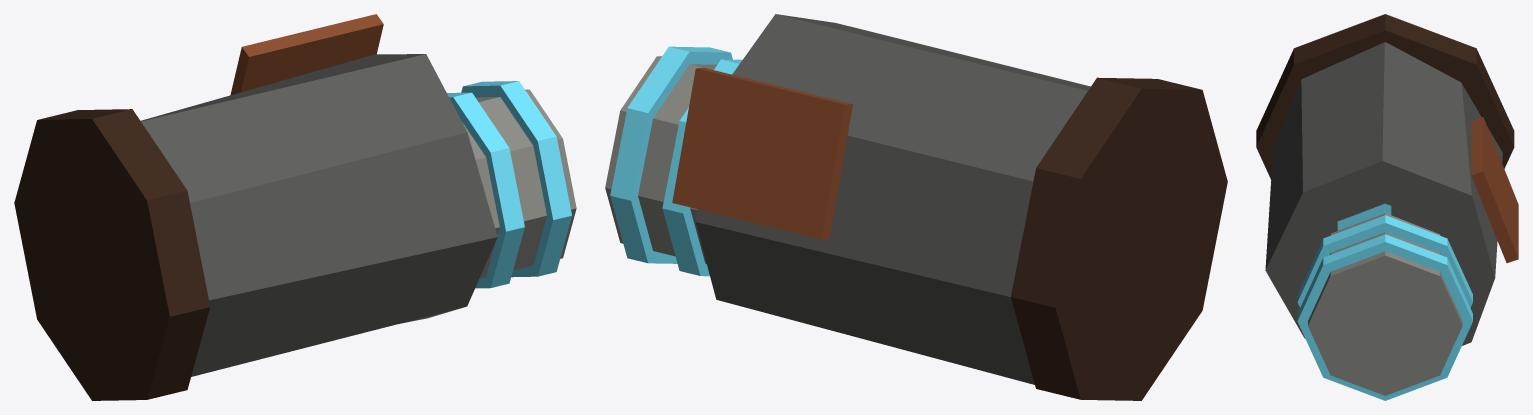
The model's file is power_cell.glb.
3 renders of one model, left to right at view 1: azimuth 30°, elevation 25°; view 2: azimuth 150°, elevation 25°; view 3: azimuth 270°, elevation 25°, orthographic. The views are drawn at different scales.
Visible parts, largest first — view 1: power_cell; view 2: power_cell; view 3: power_cell.
Part boxes in pixels (x1,y1,x2,y2): power_cell: (14, 14, 576, 400); power_cell: (605, 14, 1227, 400); power_cell: (1256, 14, 1518, 400).
Size of the model in its own units: 3.25 by 2 by 2.03.
